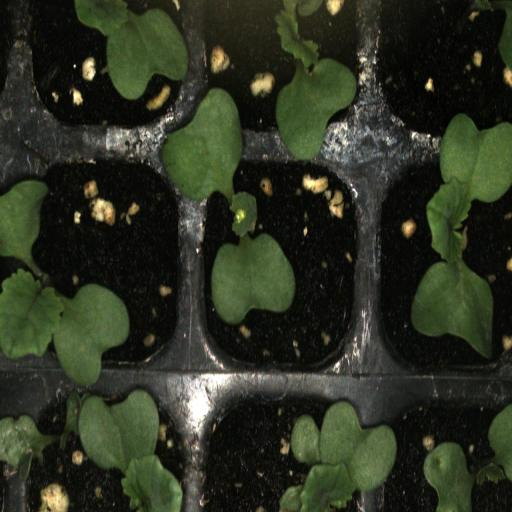Folha: (0, 414, 52, 480), (484, 403, 512, 481)
Germinacao: (13, 153, 194, 372), (196, 152, 372, 370), (377, 157, 512, 374), (196, 0, 368, 150), (20, 0, 194, 144), (194, 376, 375, 512), (15, 377, 190, 512)
